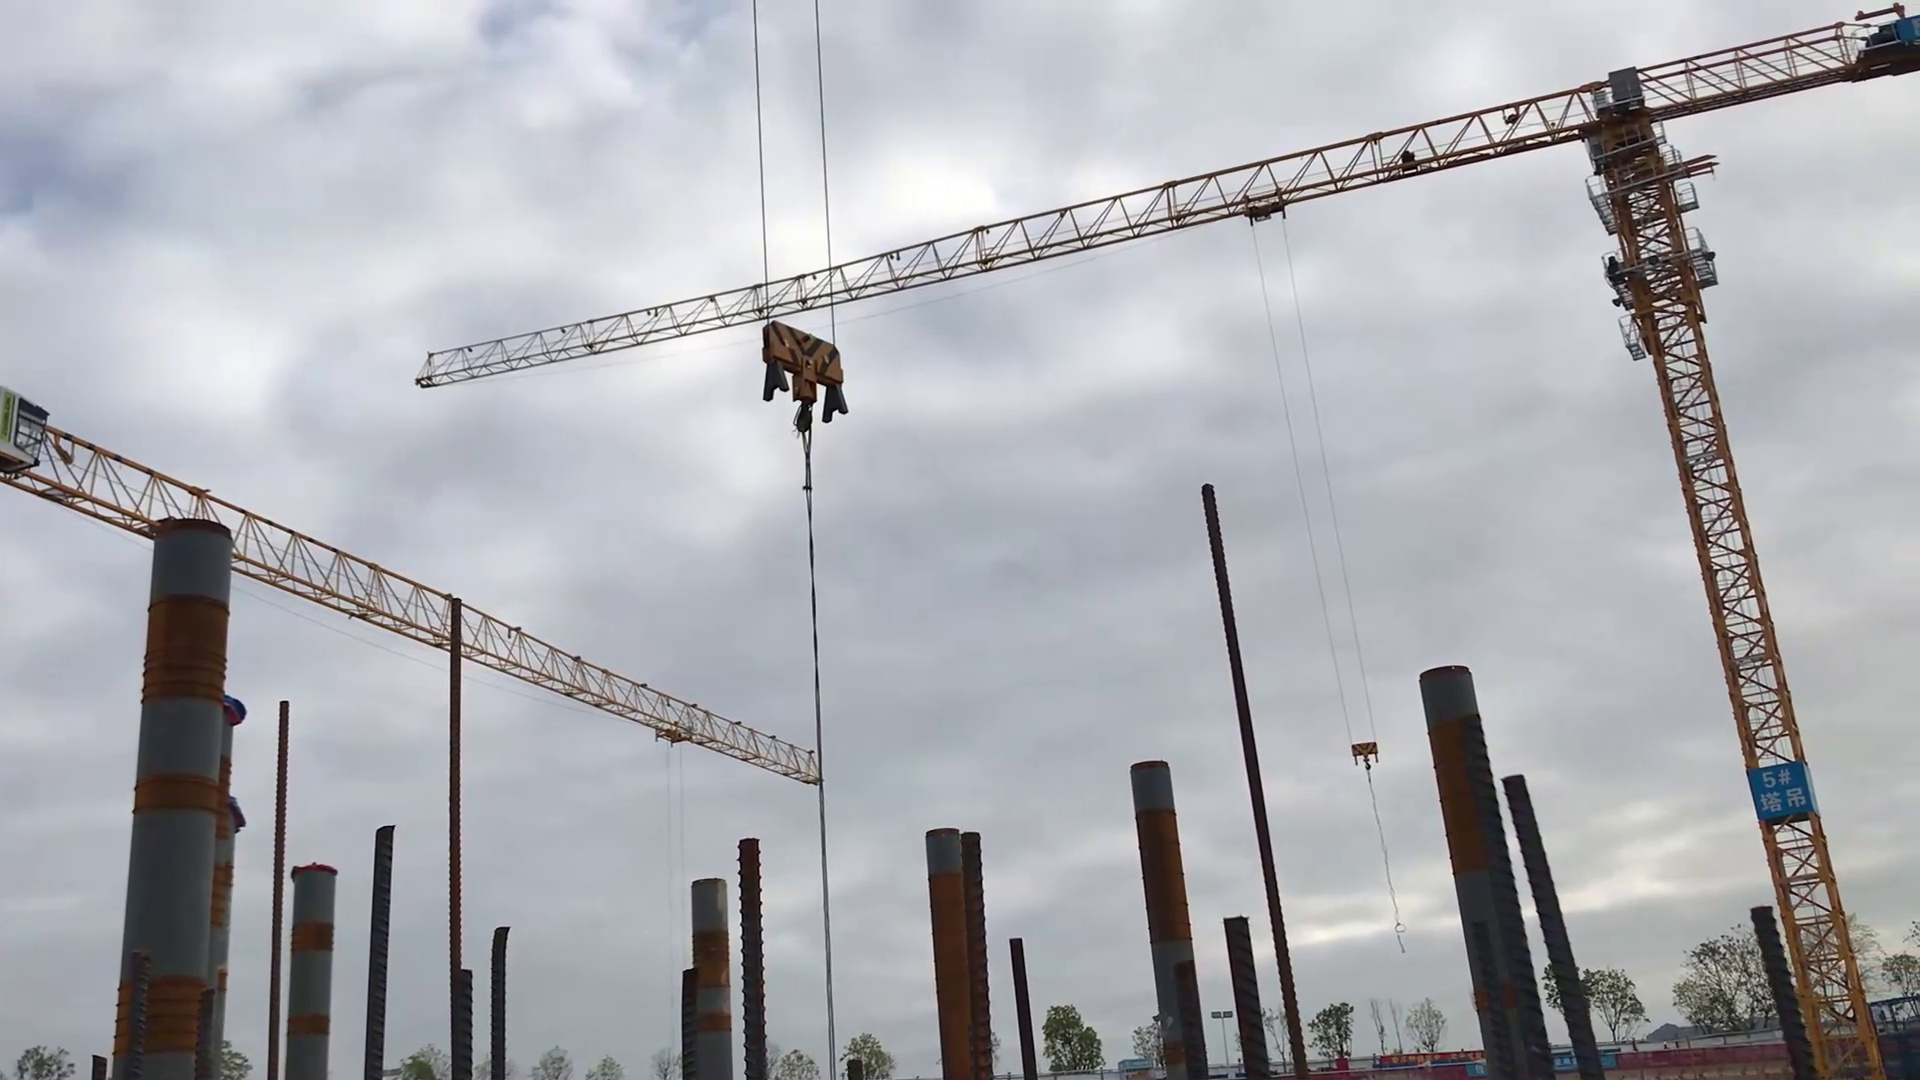hook: (756, 315, 849, 440)
